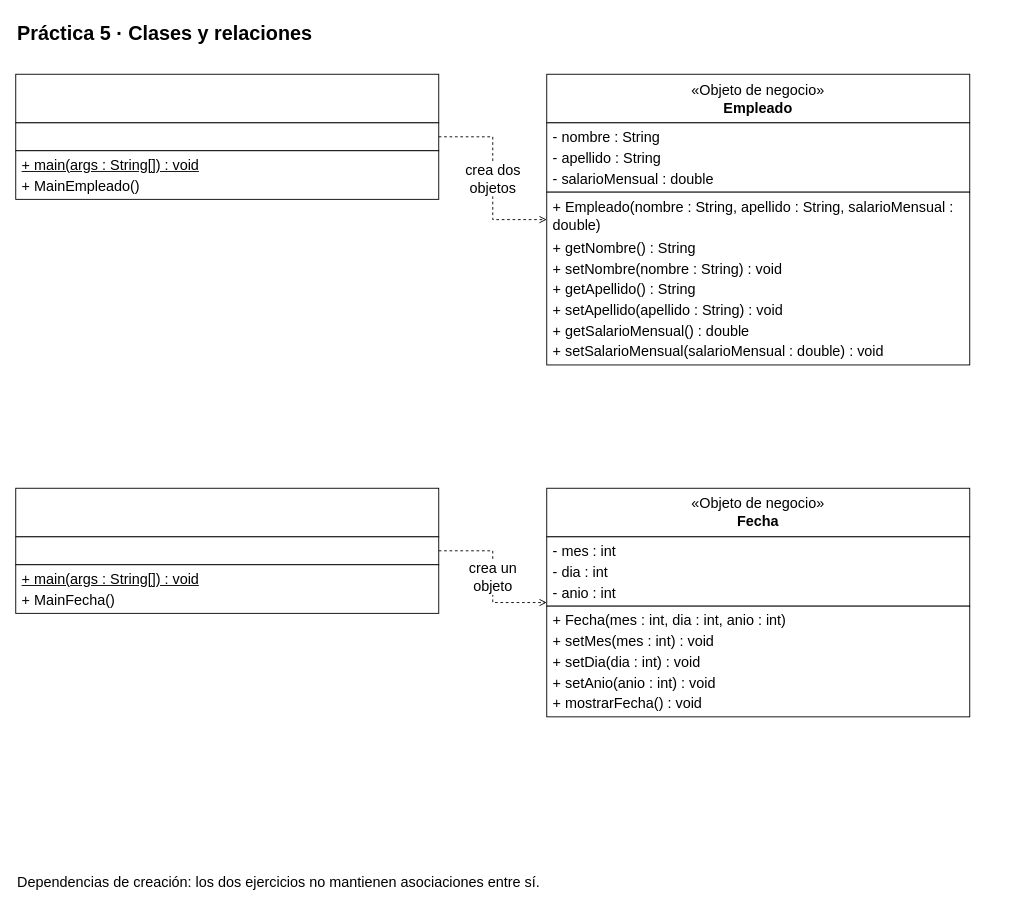
Some shapes in this 1022 by 914 pixel diagram are drawn without their labels. Here are the shapes that lost their labels. From the top down, the box of each, then its label:
(15, 73, 439, 123): «Control» MainEmpleado
(15, 487, 439, 537): «Control» MainFecha
